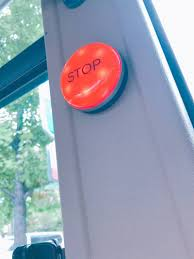bell: (58, 41, 129, 112)
